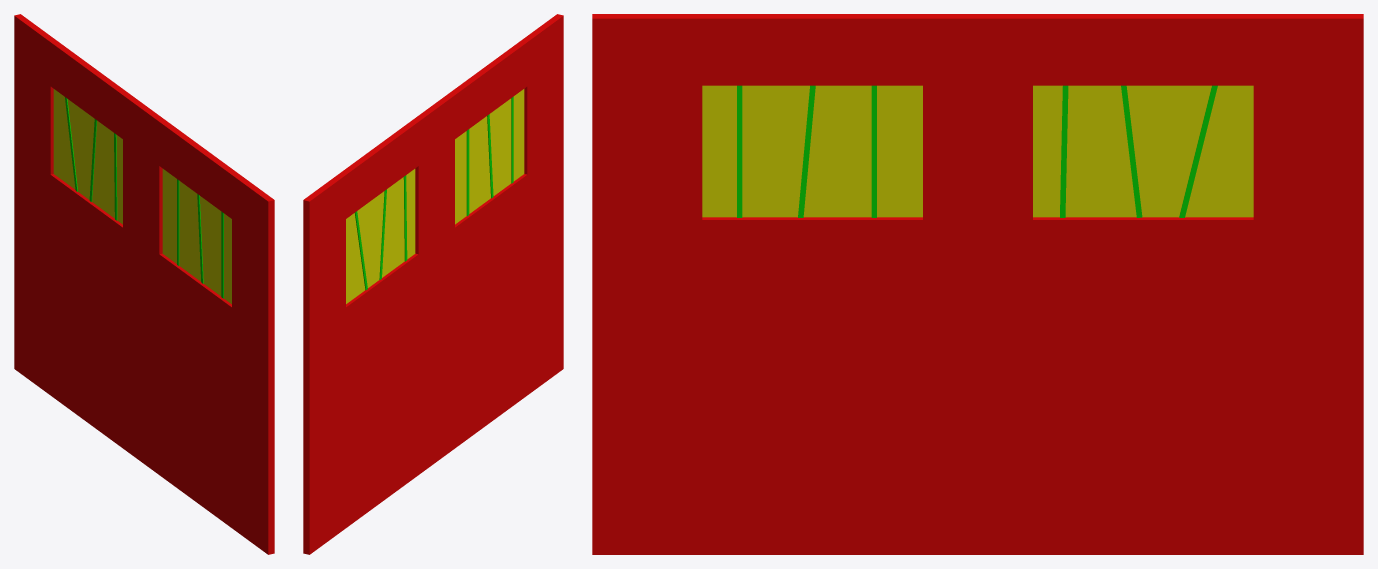
The model's file is factory_wall_02.fbx.
3 renders of one model, left to right at view 1: azimuth 30°, elevation 25°; view 2: azimuth 150°, elevation 25°; view 3: azimuth 270°, elevation 25°, orthographic. The views are drawn at different scales.
Parts seen in each view (by area): view 1: wall_01, windowpanels, windowframes; view 2: wall_01, windowpanels, windowframes; view 3: wall_01, windowpanels, windowframes.
Part boxes in pixels (x1,y1,x2,y2): wall_01: (14, 14, 274, 554); windowpanels: (53, 89, 231, 303); windowframes: (65, 97, 223, 298); wall_01: (303, 14, 563, 554); windowpanels: (346, 89, 524, 303); windowframes: (355, 96, 513, 290); wall_01: (592, 14, 1363, 554); windowpanels: (702, 85, 1253, 217); windowframes: (737, 85, 1217, 217).
Size of the model in its own units: 0.5 by 26.36 by 34.37.
